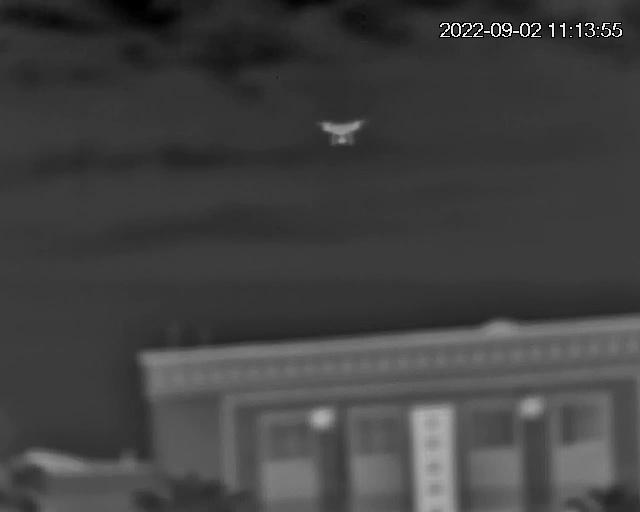DJI-Phantom: (316, 117, 369, 148)
